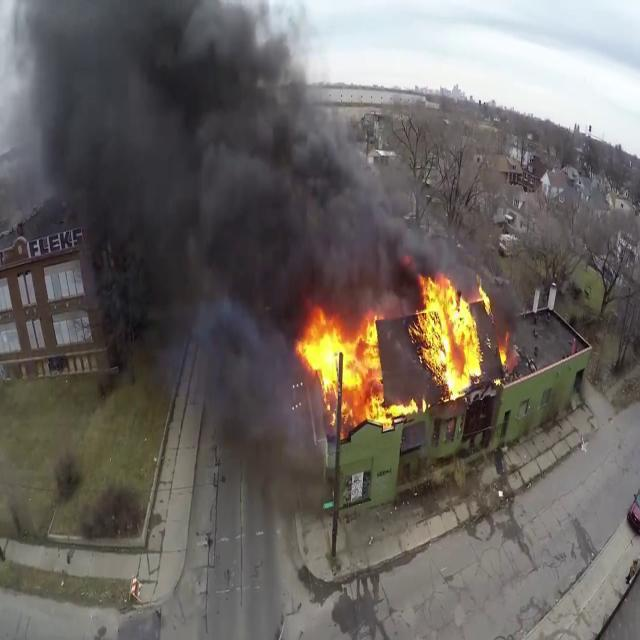Fire: (296, 286, 394, 424), (410, 276, 484, 398), (376, 392, 421, 435)
Smoke: (5, 0, 441, 337)
